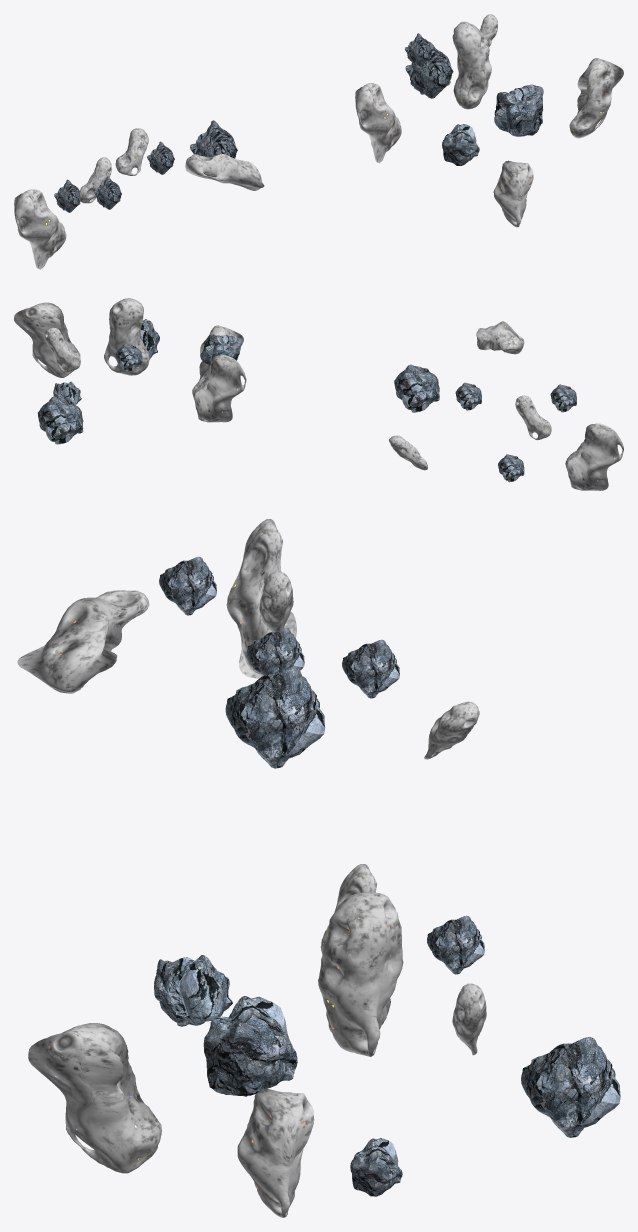
Rendered from Magma Rocks.fbx.
The picture shows the model from 3 angles, top to bottom: view 1: azimuth 30°, elevation 25°; view 2: azimuth 150°, elevation 25°; view 3: azimuth 270°, elevation 25°; orthographic projection. The views are drawn at different scales.
Parts seen in each view (by area): view 1: floating_rocks1, floating_rocks2, uploads_files_703528_A2:Mesh, Cube, Cube6, Cube4, Cube3, Cube5, Cube2, Cube7, Cube8; view 2: floating_rocks1, floating_rocks2, uploads_files_703528_A2:Mesh, Cube6, Cube3, Cube4, Cube2, Cube7, Cube5, Cube8, Cube, Cube1; view 3: floating_rocks1, floating_rocks2, uploads_files_703528_A2:Mesh, Cube, Cube6, Cube3, Cube4, Cube8, Cube5, Cube7, Cube1, Cube2.
Boxes of the visible parts, x1=… form: floating_rocks1: x1=355, y1=14, x2=623, y2=227; floating_rocks2: x1=14, y1=128, x2=264, y2=269; uploads_files_703528_A2:Mesh: x1=452, y1=21, x2=491, y2=109; Cube: x1=494, y1=84, x2=543, y2=136; Cube6: x1=405, y1=41, x2=453, y2=98; Cube4: x1=442, y1=124, x2=479, y2=165; Cube3: x1=190, y1=120, x2=237, y2=158; Cube5: x1=405, y1=33, x2=432, y2=66; Cube2: x1=147, y1=141, x2=174, y2=174; Cube7: x1=94, y1=176, x2=121, y2=209; Cube8: x1=54, y1=179, x2=80, y2=212; floating_rocks1: x1=14, y1=302, x2=246, y2=422; floating_rocks2: x1=389, y1=321, x2=623, y2=490; uploads_files_703528_A2:Mesh: x1=104, y1=298, x2=149, y2=375; Cube6: x1=37, y1=396, x2=83, y2=444; Cube3: x1=394, y1=364, x2=439, y2=412; Cube4: x1=200, y1=334, x2=242, y2=365; Cube2: x1=455, y1=382, x2=481, y2=410; Cube7: x1=550, y1=384, x2=576, y2=412; Cube5: x1=116, y1=343, x2=142, y2=371; Cube8: x1=498, y1=454, x2=524, y2=482; Cube: x1=140, y1=319, x2=159, y2=359; Cube1: x1=53, y1=381, x2=81, y2=404; floating_rocks1: x1=28, y1=864, x2=486, y2=1217; floating_rocks2: x1=17, y1=519, x2=479, y2=759; uploads_files_703528_A2:Mesh: x1=318, y1=892, x2=403, y2=1056; Cube: x1=203, y1=996, x2=297, y2=1096; Cube6: x1=521, y1=1037, x2=620, y2=1137; Cube3: x1=225, y1=667, x2=325, y2=768; Cube4: x1=154, y1=955, x2=232, y2=1026; Cube8: x1=342, y1=639, x2=399, y2=698; Cube5: x1=427, y1=915, x2=484, y2=974; Cube7: x1=159, y1=556, x2=216, y2=615; Cube1: x1=350, y1=1138, x2=402, y2=1196; Cube2: x1=246, y1=628, x2=304, y2=675.
Bounding box in the file's own units: 3.61 × 0.8366 × 1.57.
